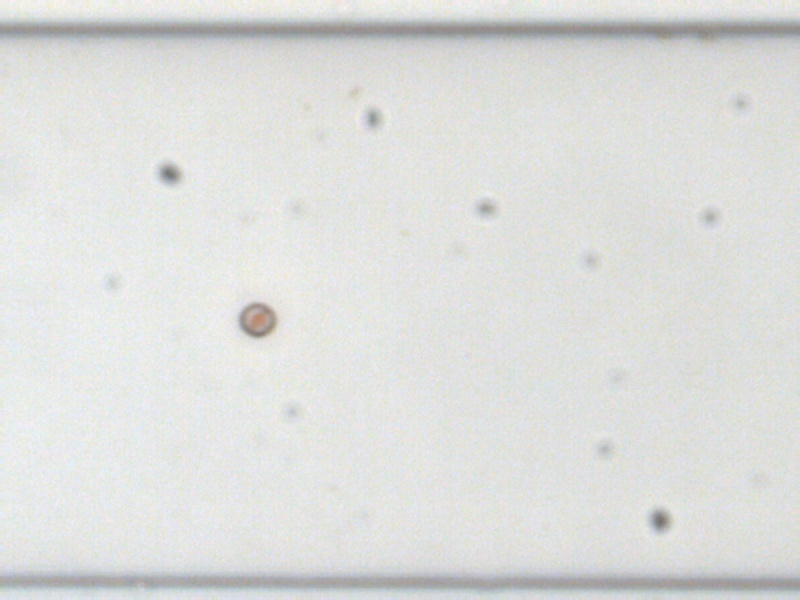Porphyridium: (234, 301, 278, 339)
